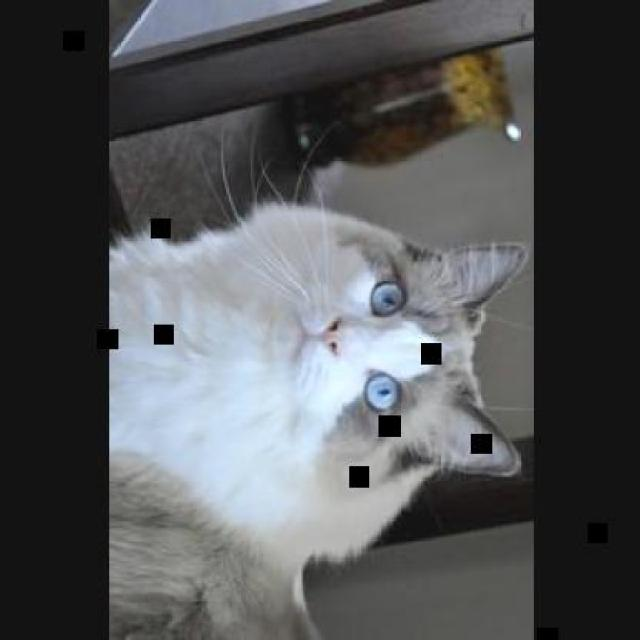unauthorized: (106, 142, 529, 638)
